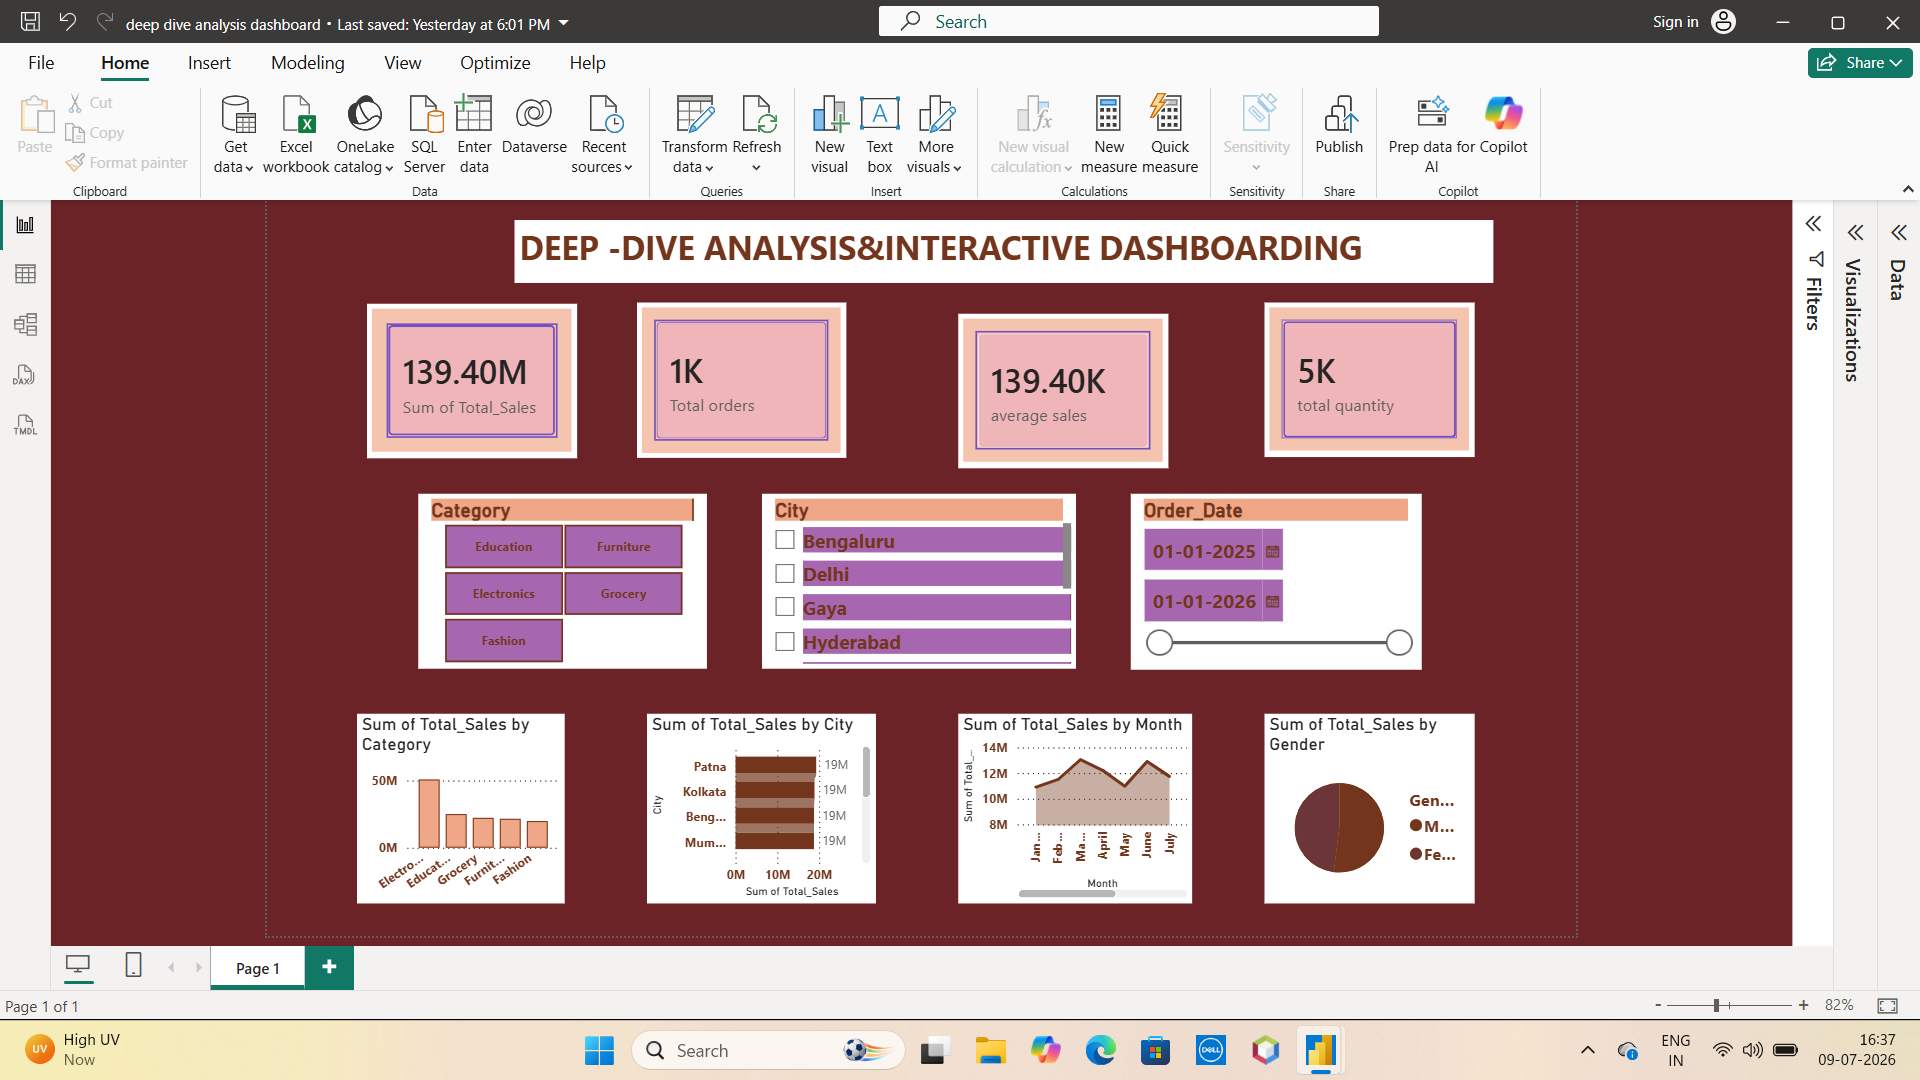

The page's visual inventory and layout, read from the dashboard file:
{"tool":"powerbi","page":{"name":"Page 1","canvas":[1280,720],"ordinal":0},"visuals":[{"type":"cardVisual","fields":{"Data":["Sum(Sales_Dataset.Total_Sales)"]},"box":[106.4,102.7,183.4,150.4],"z":0},{"type":"cardVisual","fields":{"Data":["Sales_Dataset.Total orders"]},"box":[371.7,102.7,204.2,159],"z":1000},{"type":"cardVisual","fields":{"Data":["Sales_Dataset.average sales"]},"box":[676.2,102.7,206.7,159],"z":2000},{"type":"cardVisual","fields":{"Data":["Sales_Dataset.total quantity"]},"box":[975.6,100.2,205.8,150.9],"z":3000},{"type":"clusteredColumnChart","fields":{"Category":["Sales_Dataset.Category"],"Y":["Sum(Sales_Dataset.Total_Sales)"]},"box":[87.8,502.2,203.1,185.2],"z":4000},{"type":"barChart","fields":{"Category":["Sales_Dataset.City"],"Y":["Sum(Sales_Dataset.Total_Sales)"]},"box":[371.9,502.2,223.7,185.2],"z":5000},{"type":"lineChart","fields":{"Category":["Sales_Dataset.Order_Date.Variation.Date Hierarchy.Month"],"Y":["Sum(Sales_Dataset.Total_Sales)"]},"box":[676.5,502.2,229.2,185.2],"z":6000},{"type":"pieChart","fields":{"Category":["Sales_Dataset.Gender"],"Y":["Sum(Sales_Dataset.Total_Sales)"]},"box":[975.6,502.2,205.8,185.2],"z":7000},{"type":"slicer","fields":{"Values":["Sales_Dataset.Category"]},"box":[148.2,286.8,282.7,171.5],"z":8000},{"type":"slicer","fields":{"Values":["Sales_Dataset.City"]},"box":[484.4,286.8,307.4,171.5],"z":9000},{"type":"slicer","fields":{"Values":["Sales_Dataset.Order_Date"]},"box":[845.3,286.8,284,171.5],"z":10000},{"type":"textbox","box":[241.5,19.2,957.8,61.7],"z":11000}]}

Visuals, with their boxes on the page's 1280x720 design canvas (x1, y1, x2, y2). These are canvas units, not pixel positions in the 1920x1080 screenshot, which may show the page scaled, cropped or inside an application window:
cardVisual - Sum(Sales_Dataset.Total_Sales): box=[106, 103, 290, 253]
cardVisual - Sales_Dataset.Total orders: box=[372, 103, 576, 262]
cardVisual - Sales_Dataset.average sales: box=[676, 103, 883, 262]
cardVisual - Sales_Dataset.total quantity: box=[976, 100, 1181, 251]
clusteredColumnChart - Sales_Dataset.Category x Sum(Sales_Dataset.Total_Sales): box=[88, 502, 291, 687]
barChart - Sales_Dataset.City x Sum(Sales_Dataset.Total_Sales): box=[372, 502, 596, 687]
lineChart - Sales_Dataset.Order_Date.Variation.Date Hierarchy.Month x Sum(Sales_Dataset.Total_Sales): box=[676, 502, 906, 687]
pieChart - Sales_Dataset.Gender x Sum(Sales_Dataset.Total_Sales): box=[976, 502, 1181, 687]
slicer - Sales_Dataset.Category: box=[148, 287, 431, 458]
slicer - Sales_Dataset.City: box=[484, 287, 792, 458]
slicer - Sales_Dataset.Order_Date: box=[845, 287, 1129, 458]
textbox: box=[242, 19, 1199, 81]
